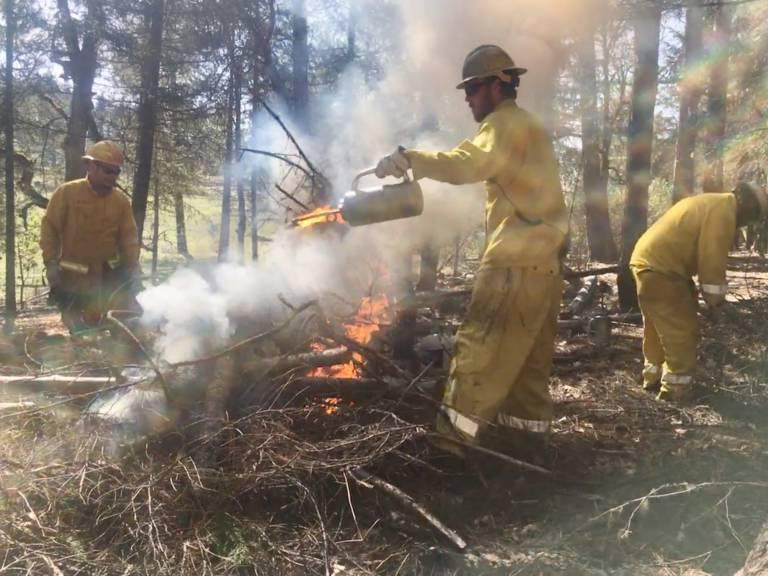Fire: (295, 279, 408, 410), (295, 201, 338, 231)
